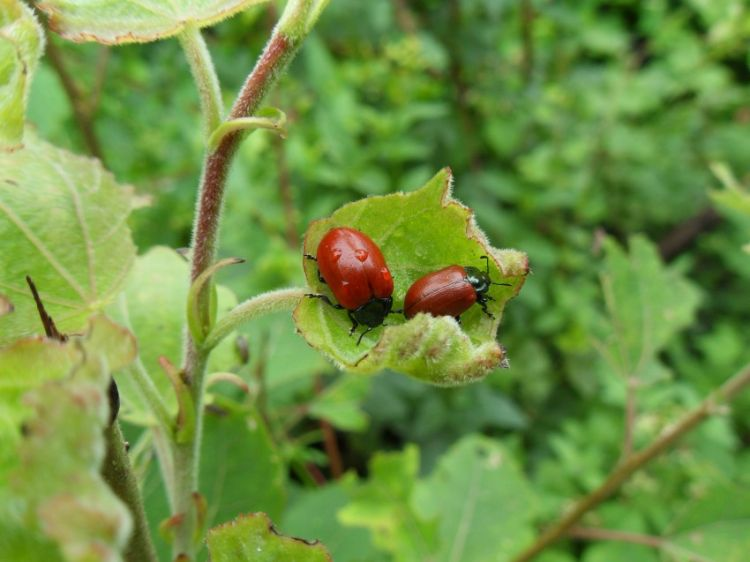Chrysomela_populi: (302, 222, 399, 346), (399, 249, 514, 340)
